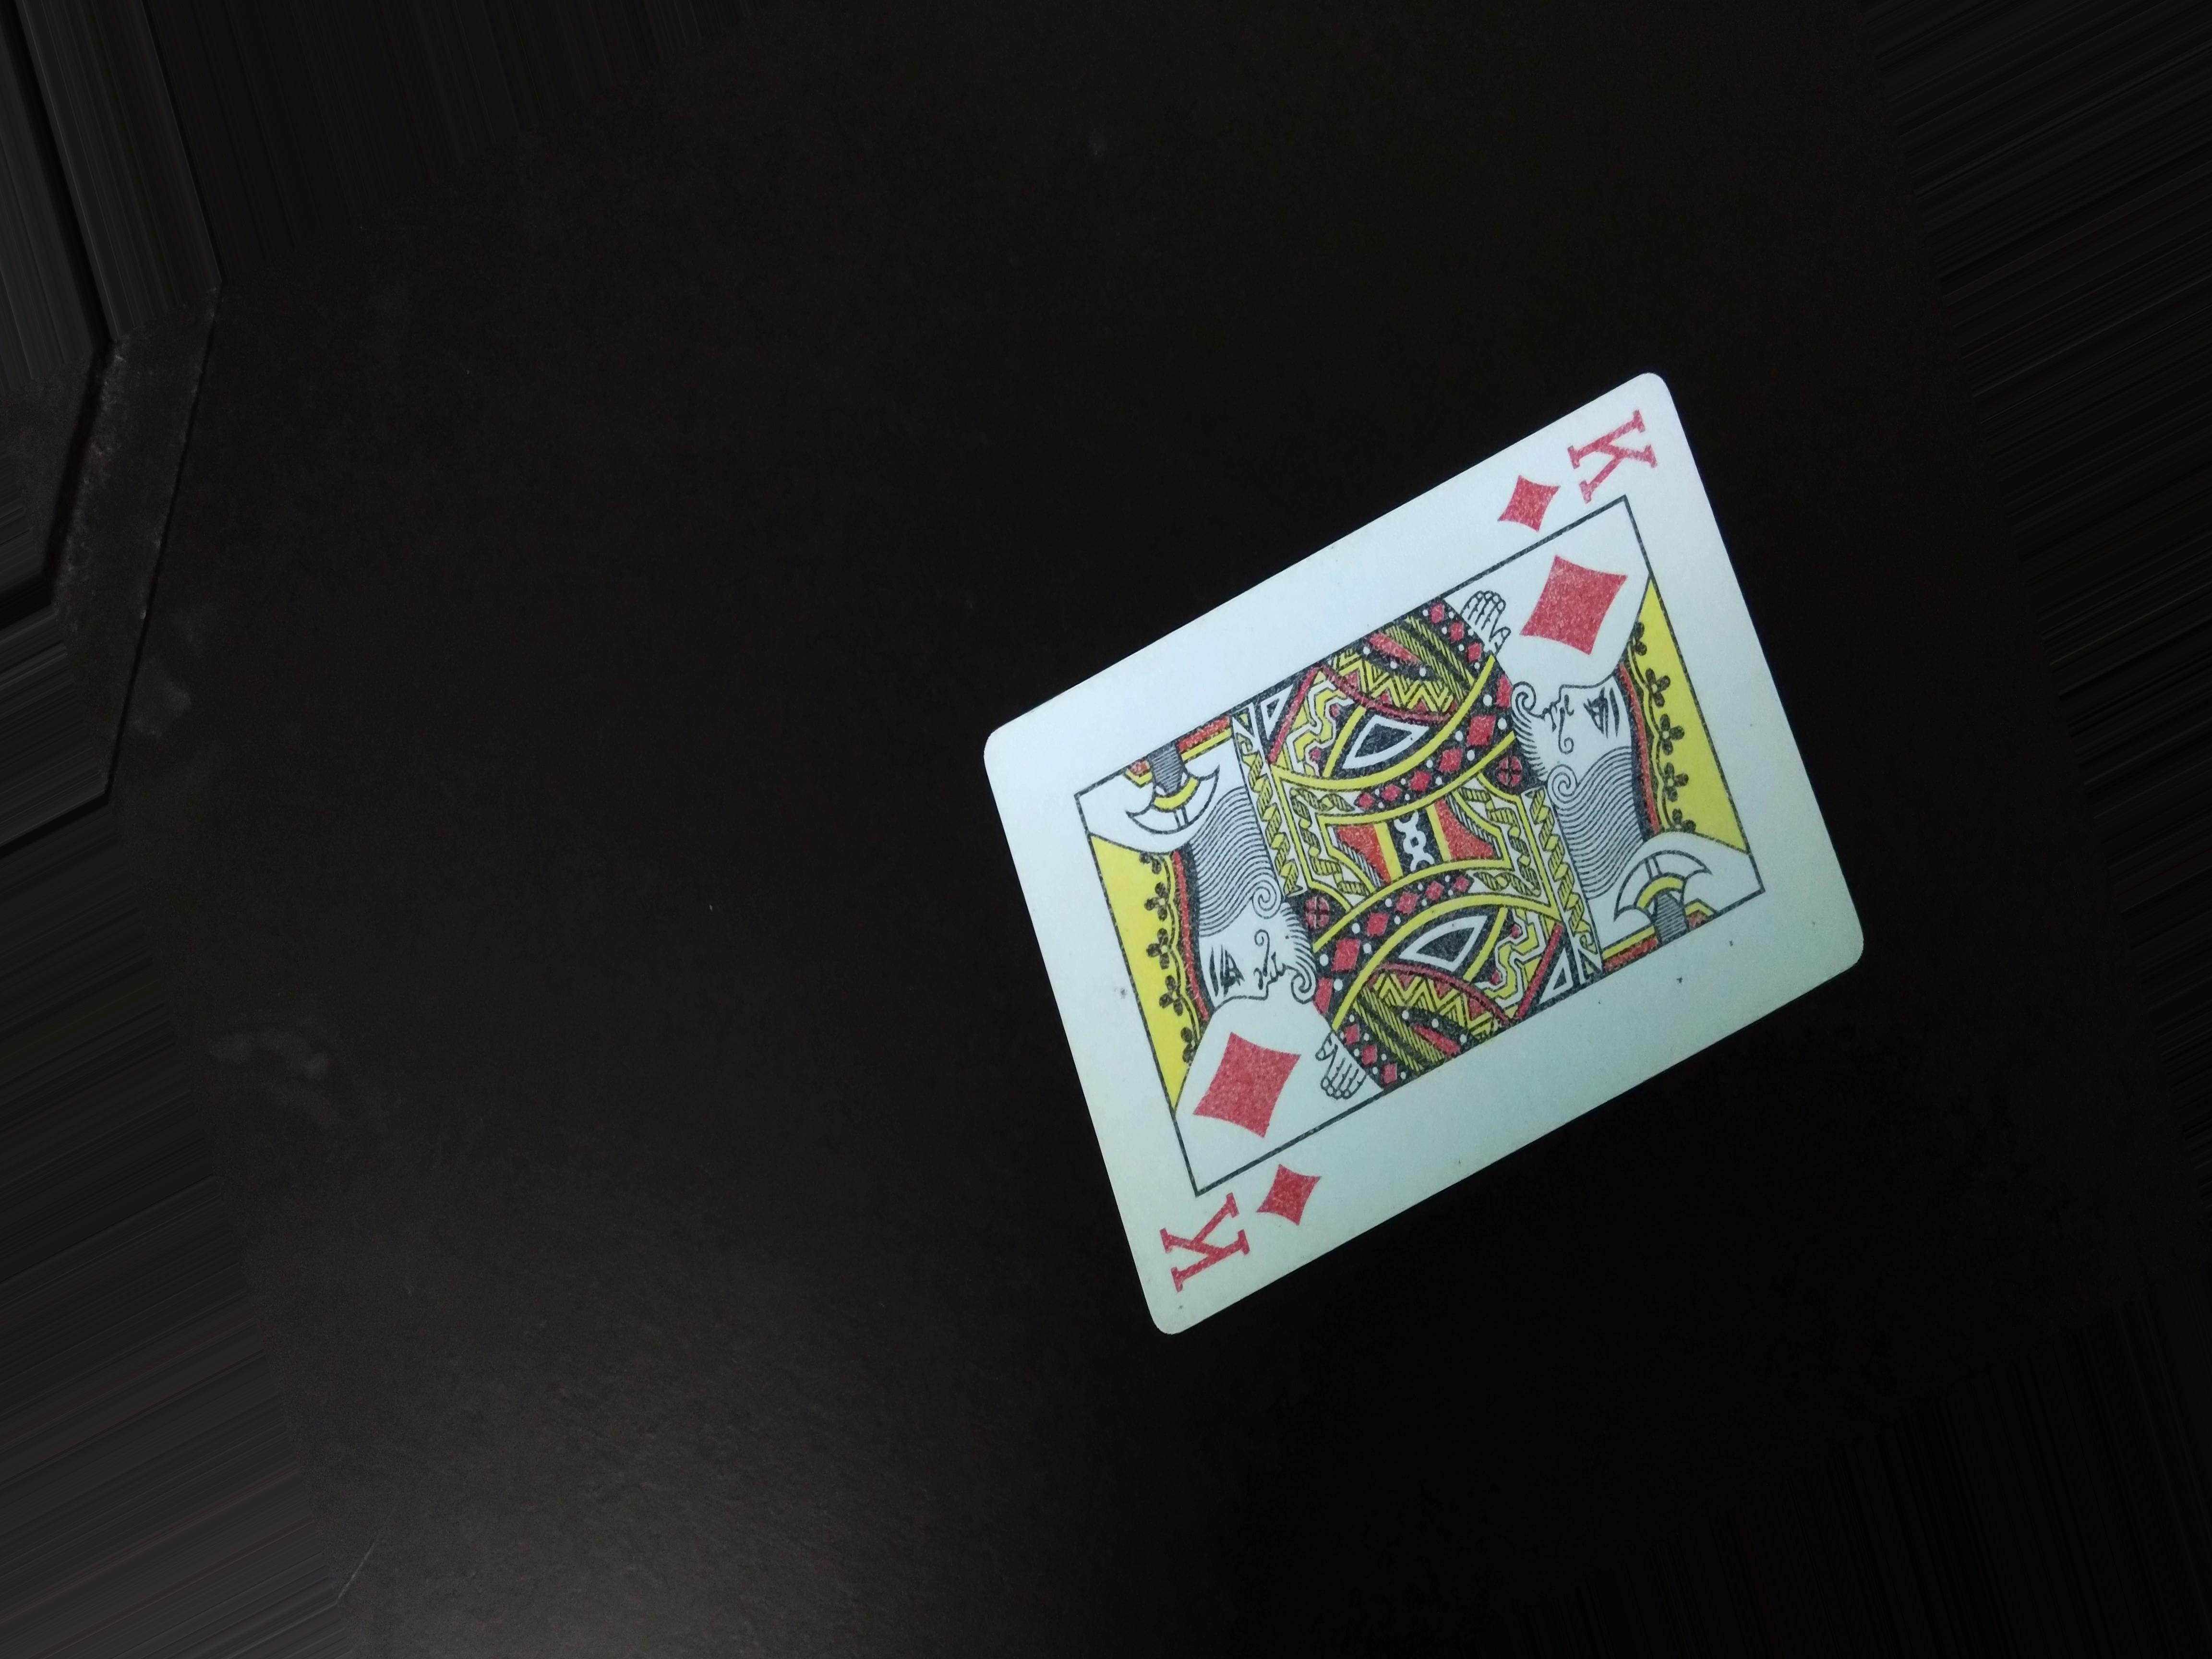KD: (1474, 413, 1662, 547)
